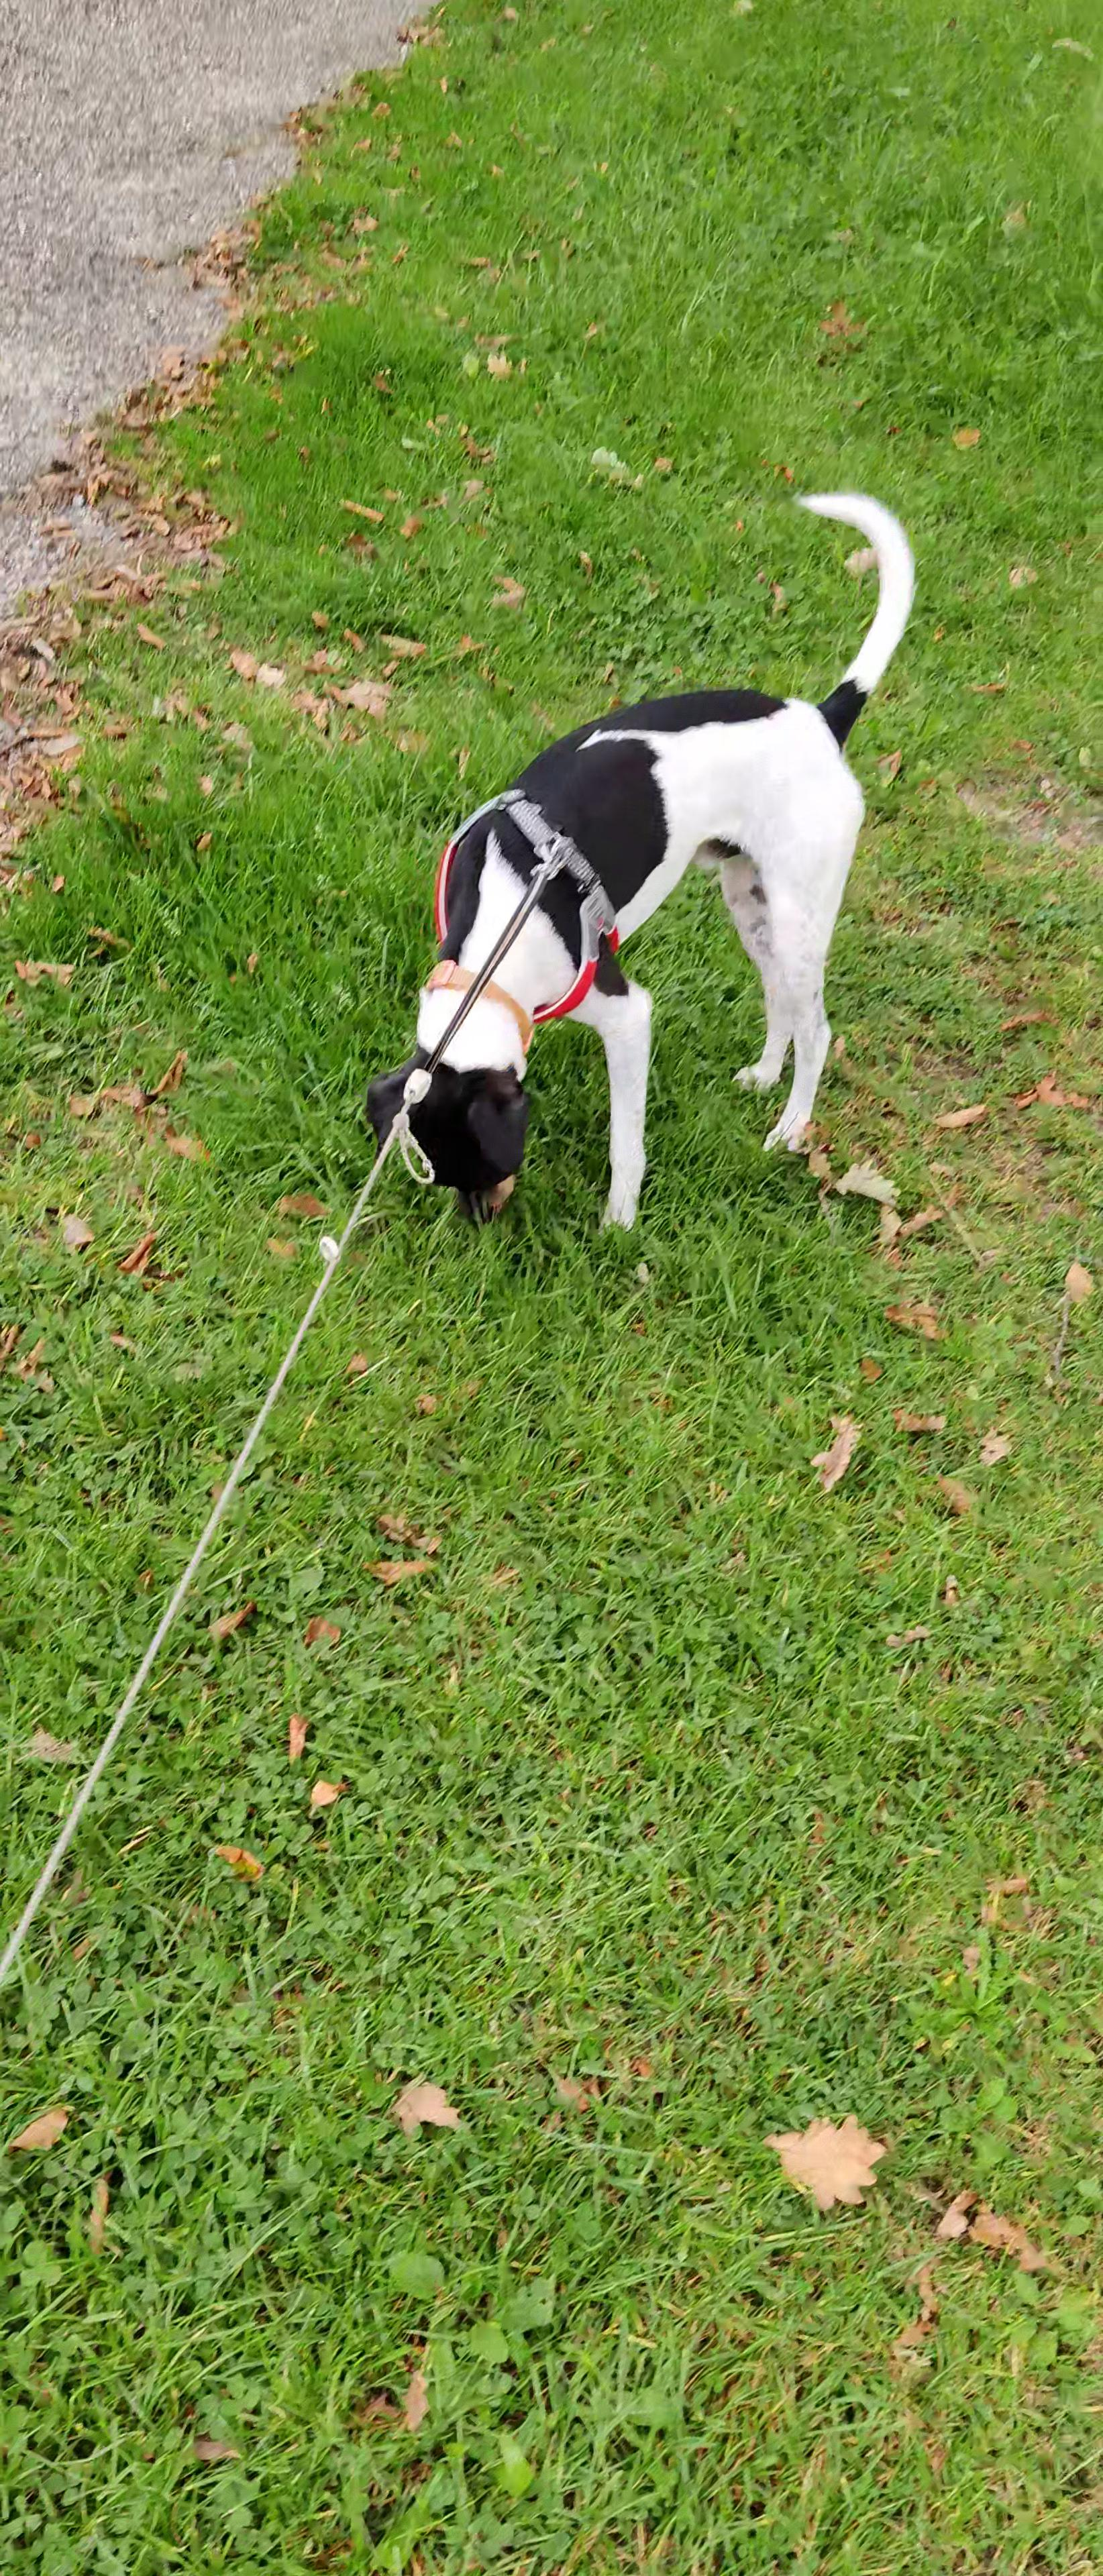Dog: (347, 481, 932, 1244)
